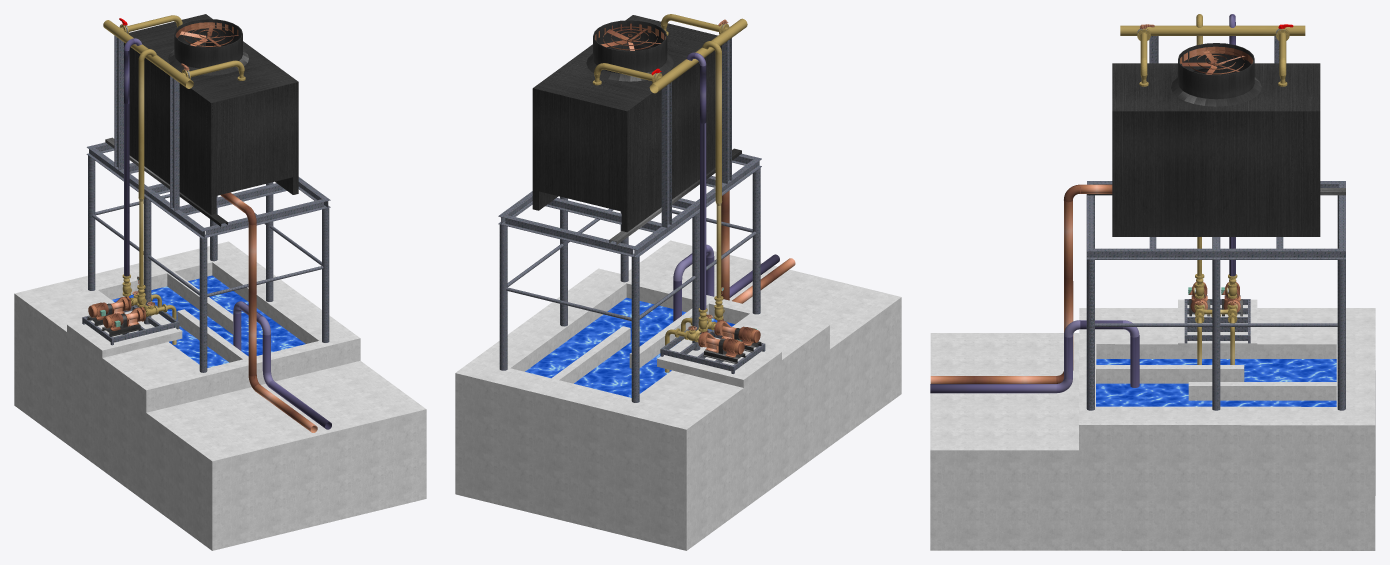
The model's file is cooling_tower.glb.
3 views of the same model, side by side, from view 1: azimuth 30°, elevation 25°; view 2: azimuth 150°, elevation 25°; view 3: azimuth 270°, elevation 25° (orthographic). The views are drawn at different scales.
Visible parts, largest first — view 1: Mesh7_Polished_Concrete_Old_0, Mesh24_M_357_0, Mesh46_Meta_Bump02_0, Mesh8_171444__Water_Pool_1_0, Group28, Mesh29_M_1312768459_d803749620_0, Mesh124_171459__Metal_Corrugated_Shiny_6_0, Mesh47__Metal_Corrugated_Shiny_8_0, Mesh14__Metal_Corrugated_Shiny_5_0, Mesh22_Meta_Bump02_0, Mesh1_M_1312768459_d803749620_0, Mesh30_M_1312768459_d803749620_0 (+2 smaller); view 2: Mesh7_Polished_Concrete_Old_0, Mesh24_M_357_0, Mesh46_Meta_Bump02_0, Mesh8_171444__Water_Pool_1_0, Group28, Mesh124_171459__Metal_Corrugated_Shiny_6_0, Mesh14__Metal_Corrugated_Shiny_5_0, Mesh47__Metal_Corrugated_Shiny_8_0, Mesh22_Meta_Bump02_0, Mesh29_M_1312768459_d803749620_0, Mesh1_M_1312768459_d803749620_0, Mesh35_M_357_0 (+2 smaller); view 3: Mesh7_Polished_Concrete_Old_0, Mesh24_M_357_0, Mesh46_Meta_Bump02_0, Mesh8_171444__Water_Pool_1_0, Group28, Mesh14__Metal_Corrugated_Shiny_5_0, Mesh40_M2_0, Mesh29_M_1312768459_d803749620_0, Mesh1_M_1312768459_d803749620_0, Mesh30_M_1312768459_d803749620_0, Mesh22_Meta_Bump02_0.
Boxes of the visible parts, x1,y1,x2,y2 form: Mesh7_Polished_Concrete_Old_0: [14, 241, 426, 550]; Mesh24_M_357_0: [124, 14, 298, 214]; Mesh46_Meta_Bump02_0: [86, 35, 330, 372]; Mesh8_171444__Water_Pool_1_0: [112, 275, 305, 367]; Group28: [168, 19, 248, 75]; Mesh29_M_1312768459_d803749620_0: [248, 224, 256, 376]; Mesh124_171459__Metal_Corrugated_Shiny_6_0: [124, 103, 129, 276]; Mesh47__Metal_Corrugated_Shiny_8_0: [138, 61, 144, 198]; Mesh14__Metal_Corrugated_Shiny_5_0: [103, 20, 193, 88]; Mesh22_Meta_Bump02_0: [82, 303, 179, 345]; Mesh1_M_1312768459_d803749620_0: [176, 22, 238, 46]; Mesh30_M_1312768459_d803749620_0: [254, 384, 317, 432]; Mesh7_Polished_Concrete_Old_0: [455, 240, 901, 550]; Mesh24_M_357_0: [532, 15, 721, 232]; Mesh46_Meta_Bump02_0: [498, 38, 761, 402]; Mesh8_171444__Water_Pool_1_0: [525, 297, 734, 397]; Group28: [586, 20, 673, 81]; Mesh124_171459__Metal_Corrugated_Shiny_6_0: [700, 123, 706, 310]; Mesh14__Metal_Corrugated_Shiny_5_0: [649, 18, 747, 93]; Mesh47__Metal_Corrugated_Shiny_8_0: [715, 54, 721, 202]; Mesh22_Meta_Bump02_0: [660, 327, 765, 373]; Mesh29_M_1312768459_d803749620_0: [721, 190, 729, 300]; Mesh1_M_1312768459_d803749620_0: [595, 23, 665, 50]; Mesh35_M_357_0: [609, 148, 741, 244]; Mesh7_Polished_Concrete_Old_0: [930, 299, 1375, 550]; Mesh24_M_357_0: [1112, 63, 1320, 236]; Mesh46_Meta_Bump02_0: [1086, 35, 1345, 410]; Mesh8_171444__Water_Pool_1_0: [1096, 359, 1336, 406]; Group28: [1171, 43, 1261, 106]; Mesh14__Metal_Corrugated_Shiny_5_0: [1120, 25, 1305, 35]; Mesh40_M2_0: [930, 384, 1056, 393]; Mesh29_M_1312768459_d803749620_0: [1064, 201, 1073, 369]; Mesh1_M_1312768459_d803749620_0: [1180, 46, 1252, 74]; Mesh30_M_1312768459_d803749620_0: [930, 376, 1056, 383]; Mesh22_Meta_Bump02_0: [1184, 299, 1250, 343].
Bounding box in the file's own units: 6.01 × 10.71 × 9.63.
Materials: 26 (17 with a texture image).
